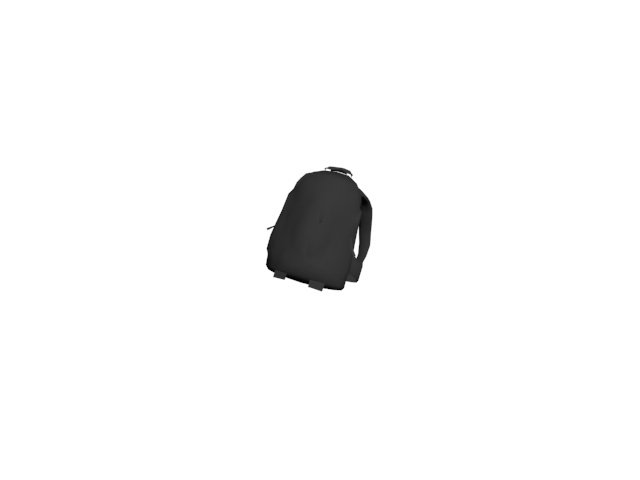back_pack: (265, 161, 376, 296)
